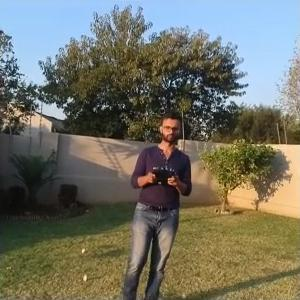follow: (119, 105, 196, 298)
